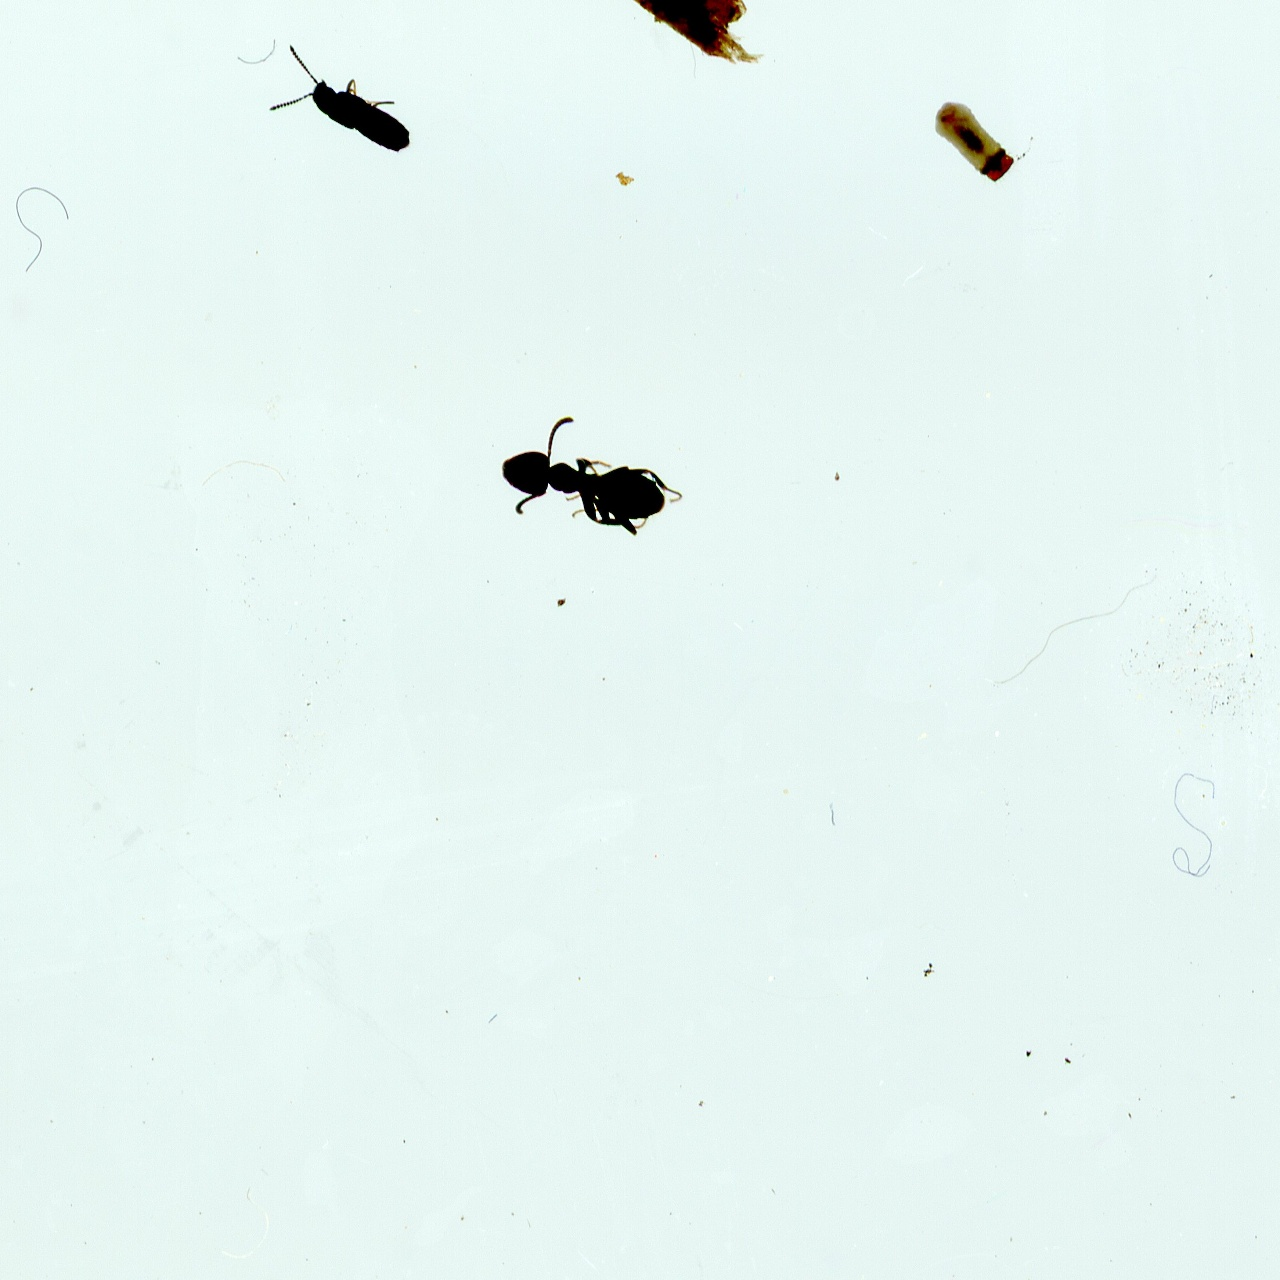arthropod: (232, 1, 438, 212), (493, 413, 697, 540), (911, 84, 1042, 211)
